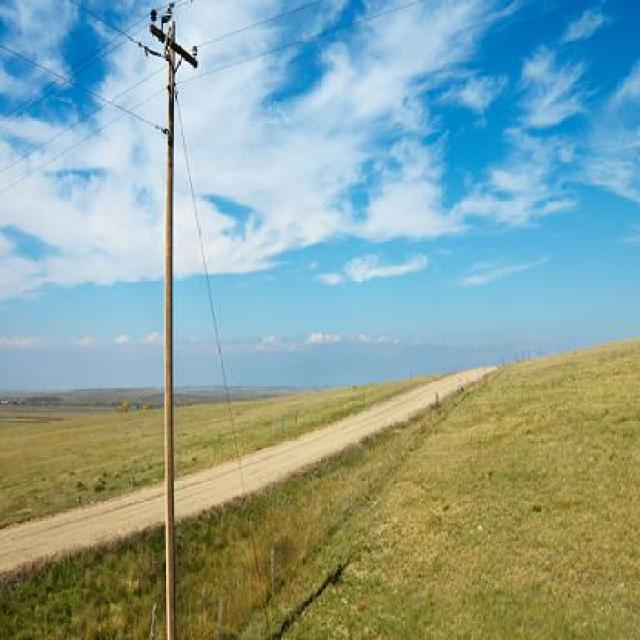pole: (120, 0, 217, 638)
